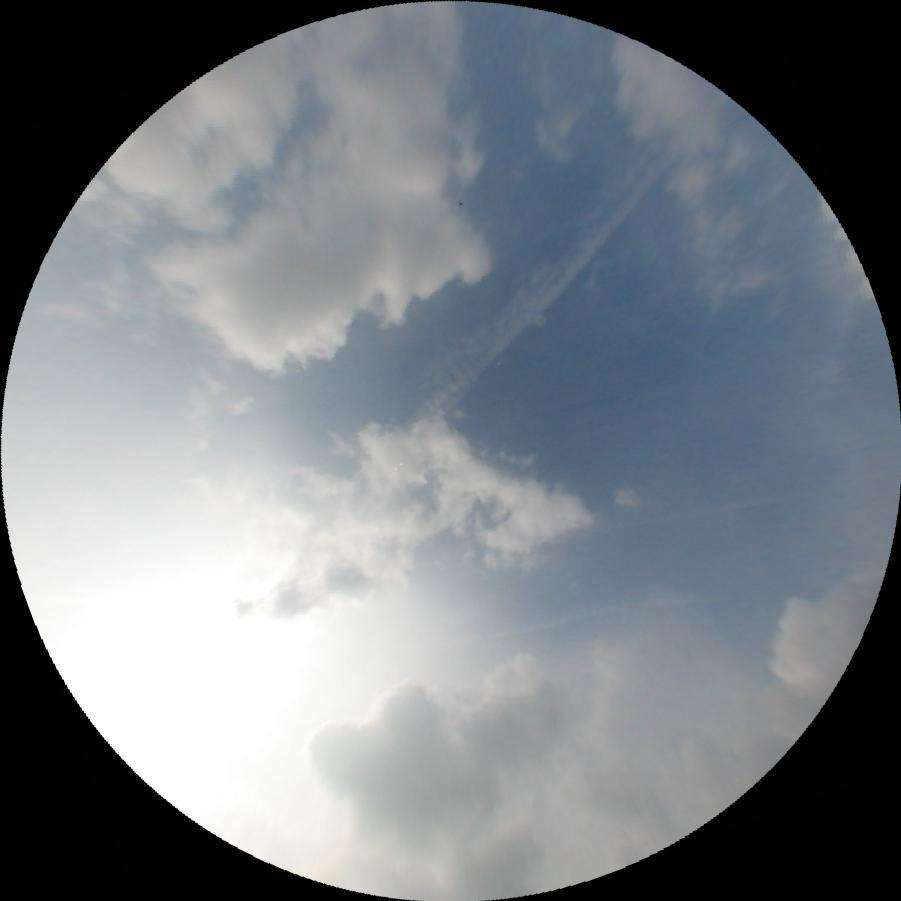contrail veryold: (402, 131, 676, 425), (573, 491, 776, 539)
sun: (27, 514, 367, 893)
unknow: (461, 585, 727, 650)
